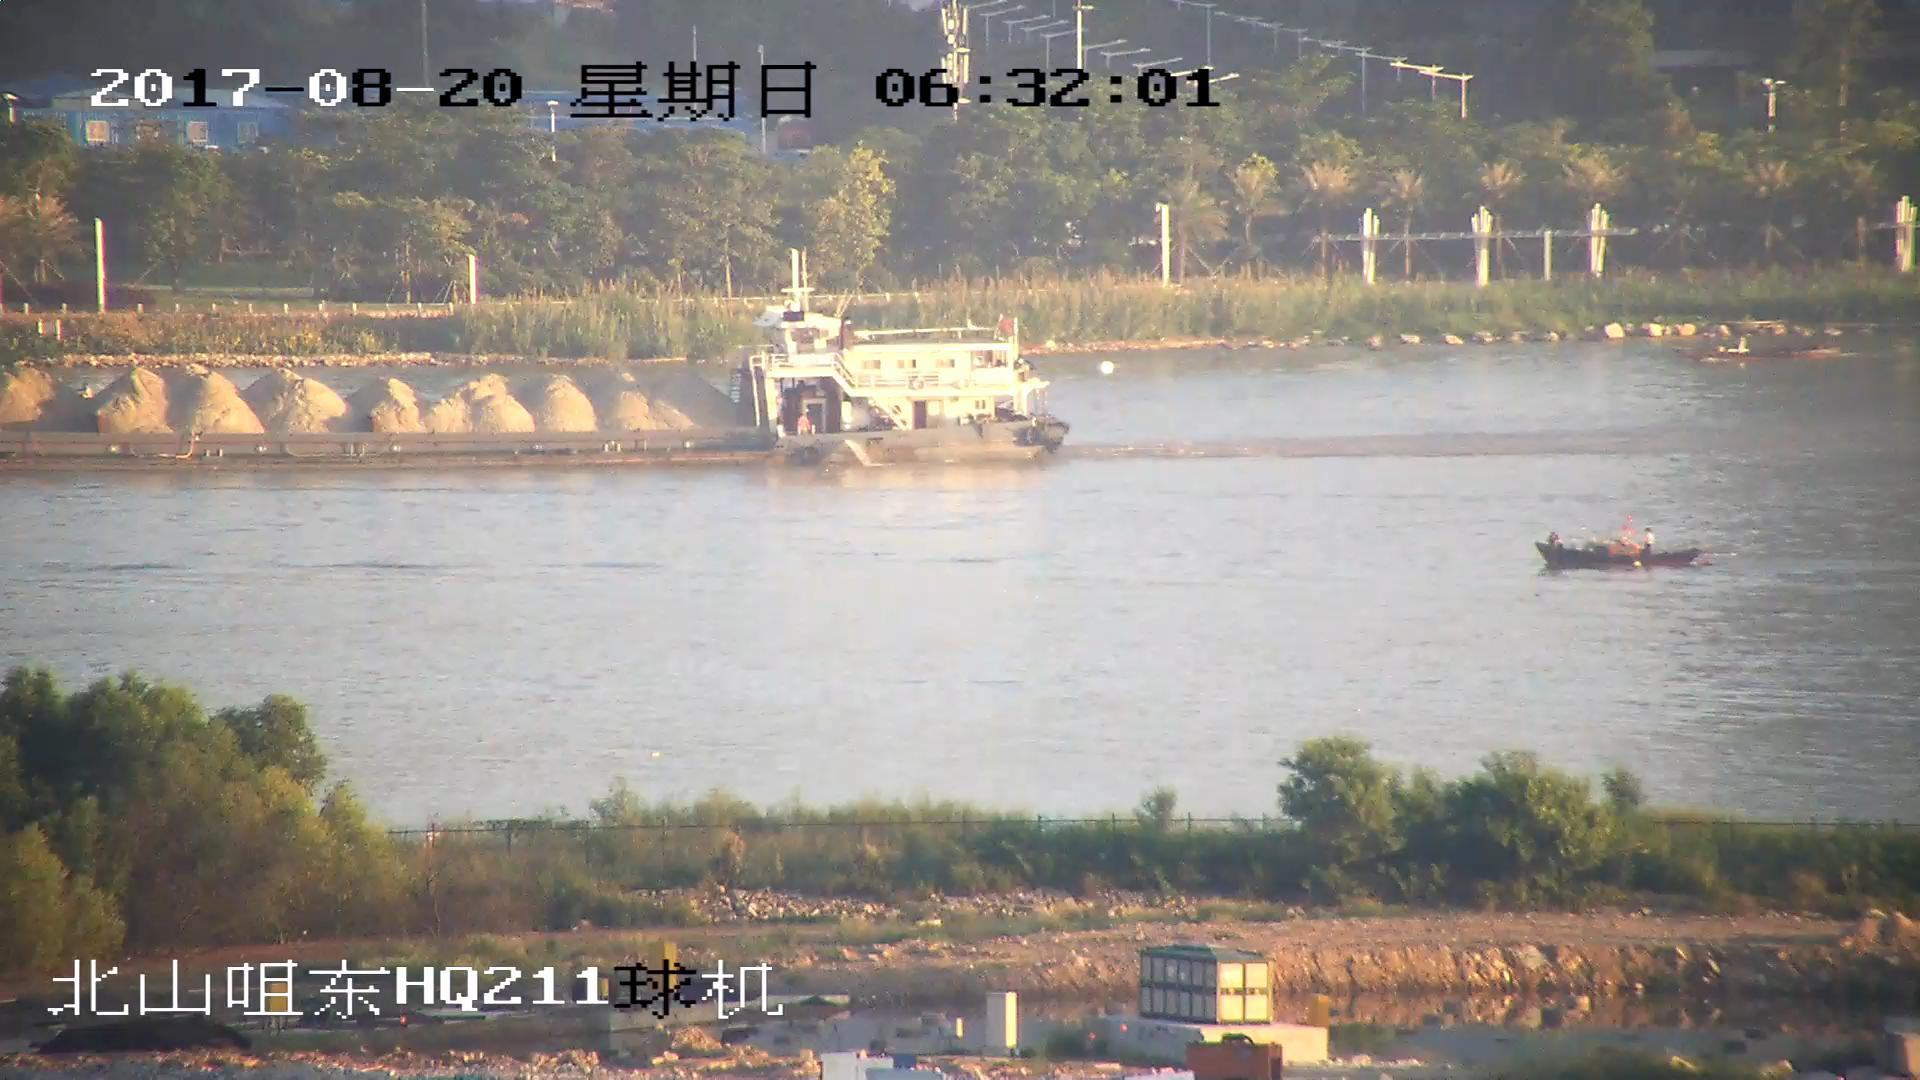Ship: (3, 255, 1069, 465), (1534, 516, 1712, 576)
